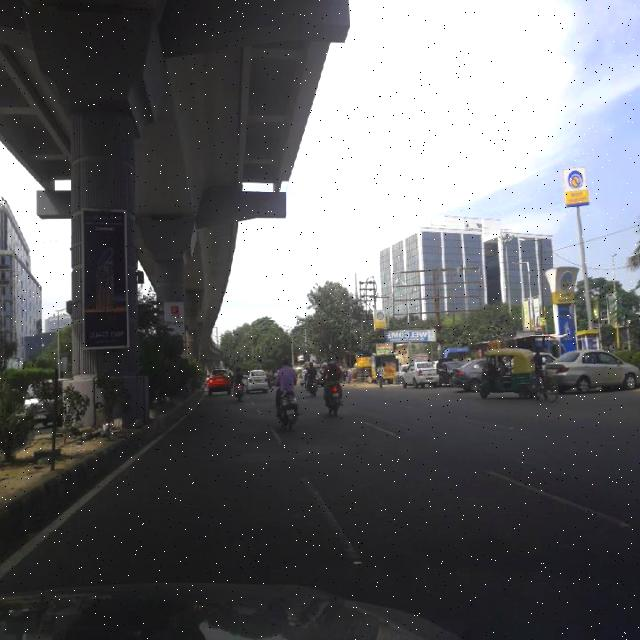D44: (304, 470, 363, 568)
